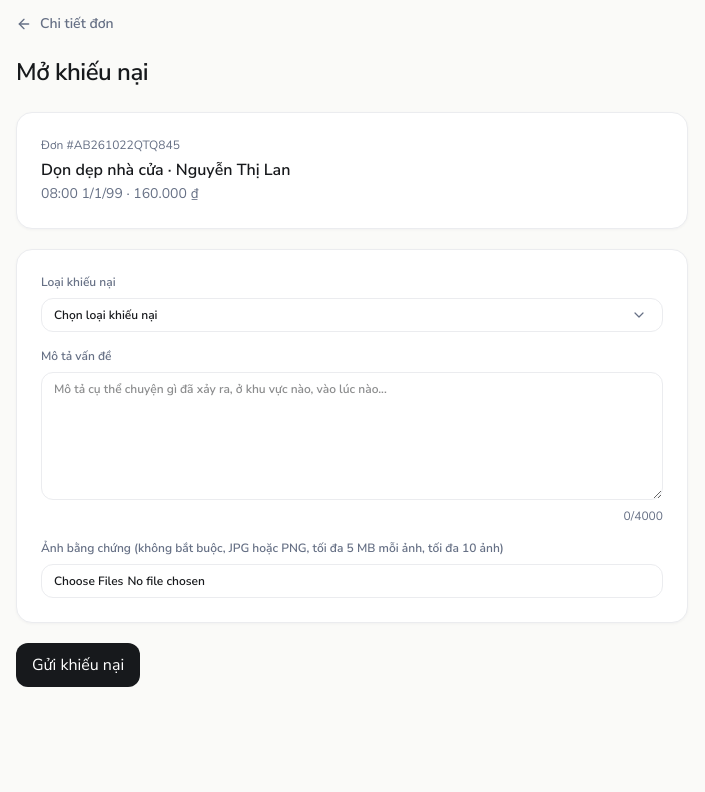
it: opening a dispute › validates category and description before anything is sent
The width and height of the screenshot is (705, 792).
Click the button "Gửi khiếu nại". click: (78, 665)
box: [16,643,140,687]
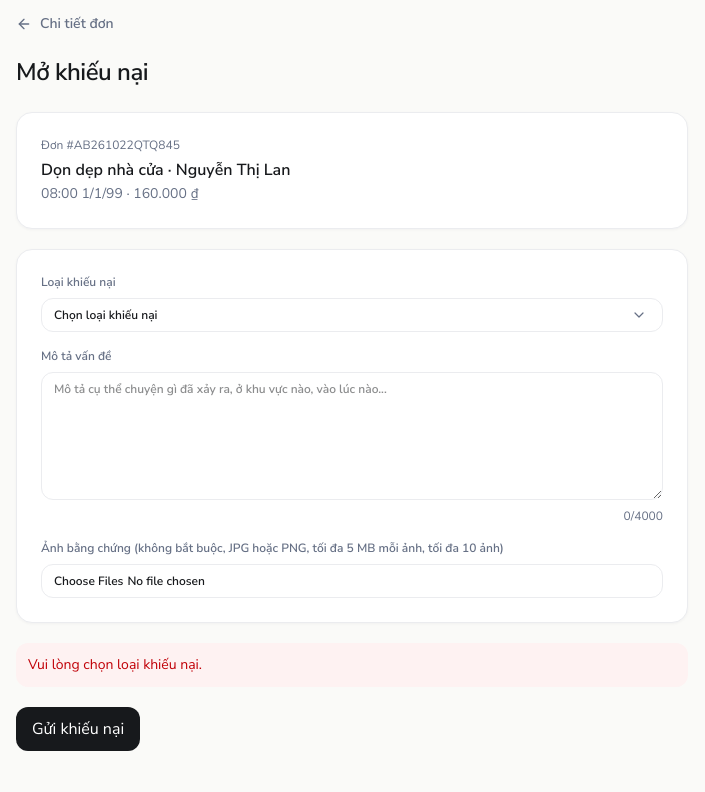
Expected: the message reads "Vui lòng chọn loại khiếu nại.", [28,655,202,674]
Select "Chất lượng dịch vụ" in the dropdown labelled "Loại khiếu nại". click: (352, 315)
box: [41,298,663,332]
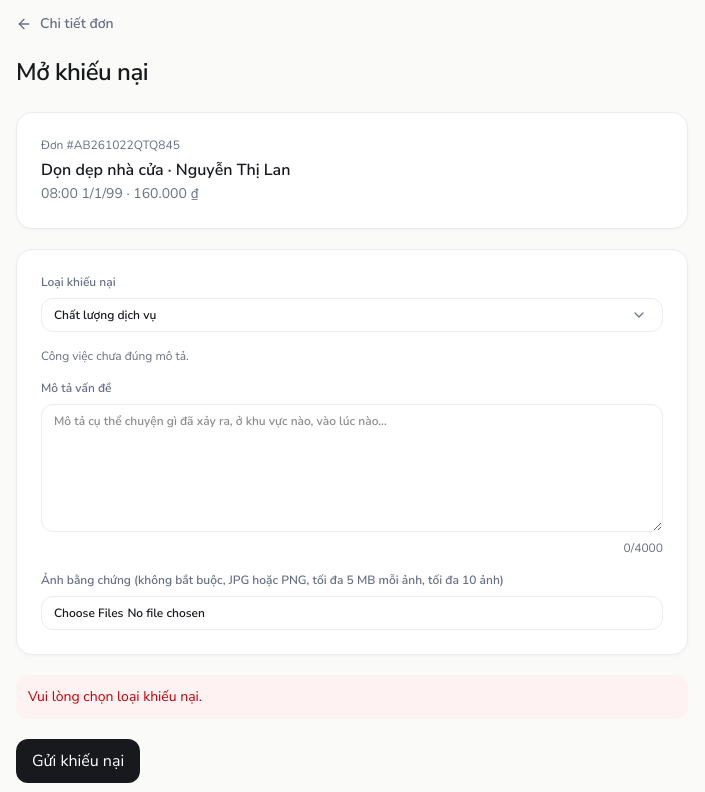
Replace the text in the text box labelled "Mô tả vấn đề 0/4000" with "ngắn quá". click: (352, 468)
box: [41,404,663,532]
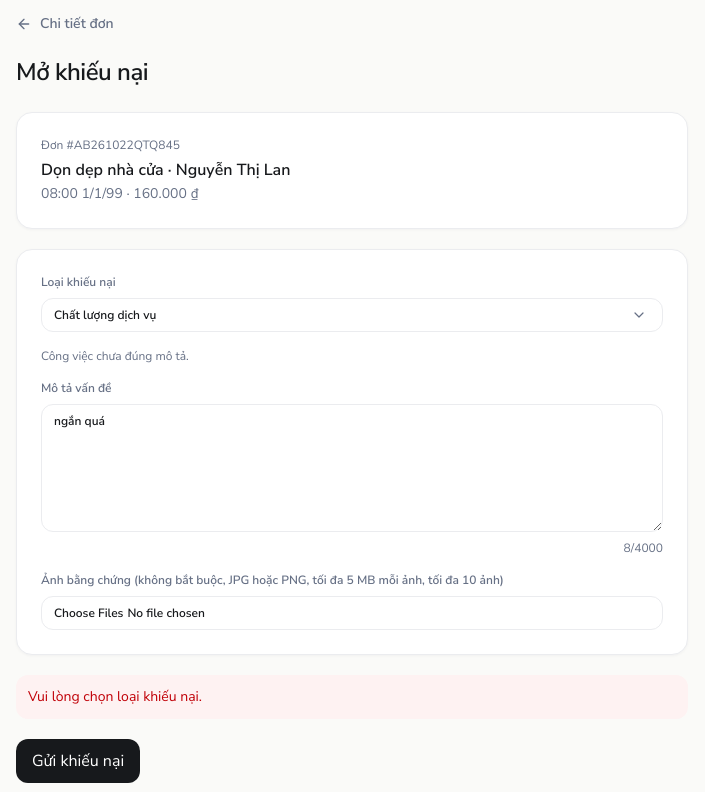
Click the button "Gửi khiếu nại". click: (78, 761)
box: [16,739,140,783]
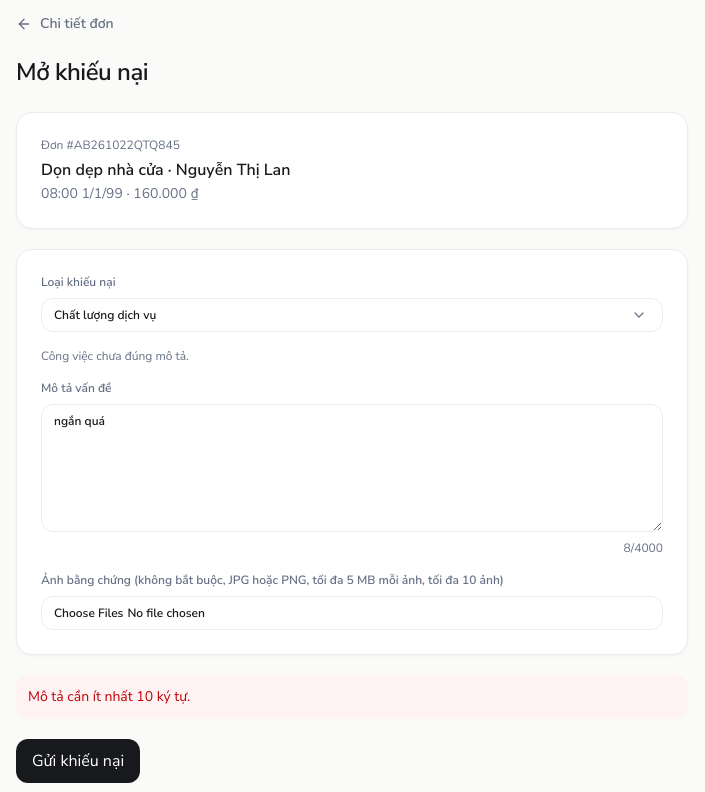
Expected: the message reads "Mô tả cần ít nhất 10 ký tự.", [28,687,190,706]
